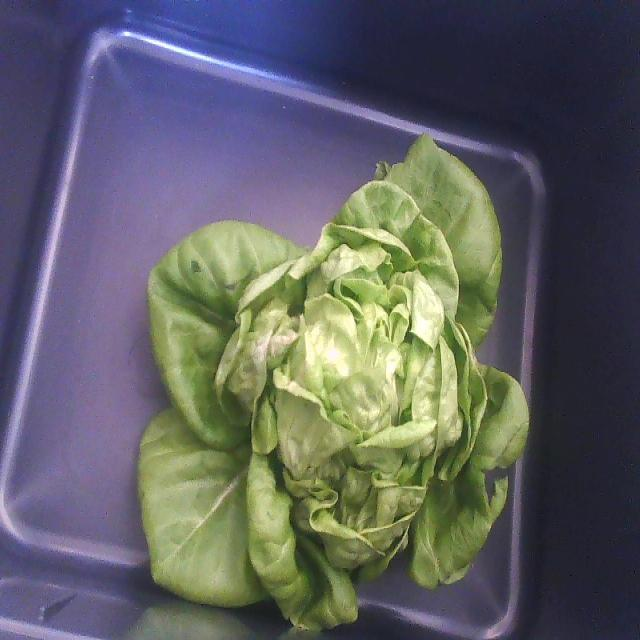Lettuce-plant: (140, 137, 529, 629)
